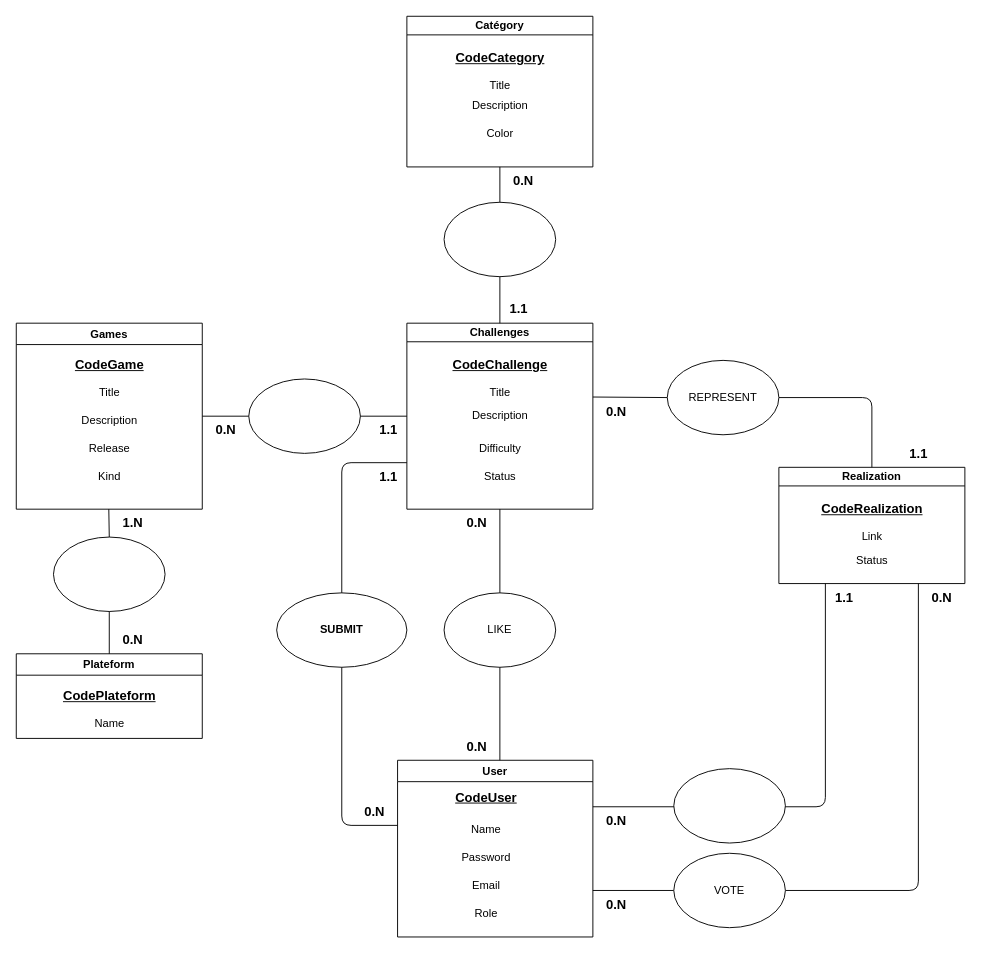
The diagram is 981 pixels wide and 953 high, and some of its shapes have lost their labels. The centre of each missing label's shape, as x and y in pixels:
"BELONG" belongs at point 304,415.
"DEFINE" belongs at point 499,239.
"MAKE" belongs at point 729,805.
"SUPPORT" belongs at point 109,573.
